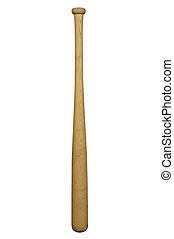bat: (69, 6, 90, 233)
